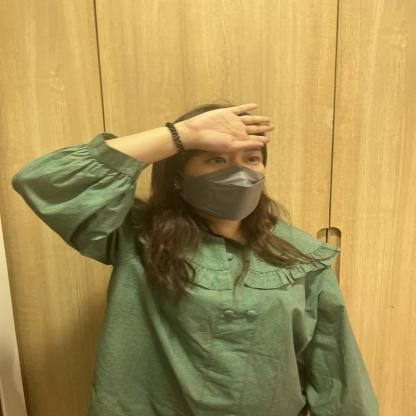Sick: (112, 93, 283, 168)
